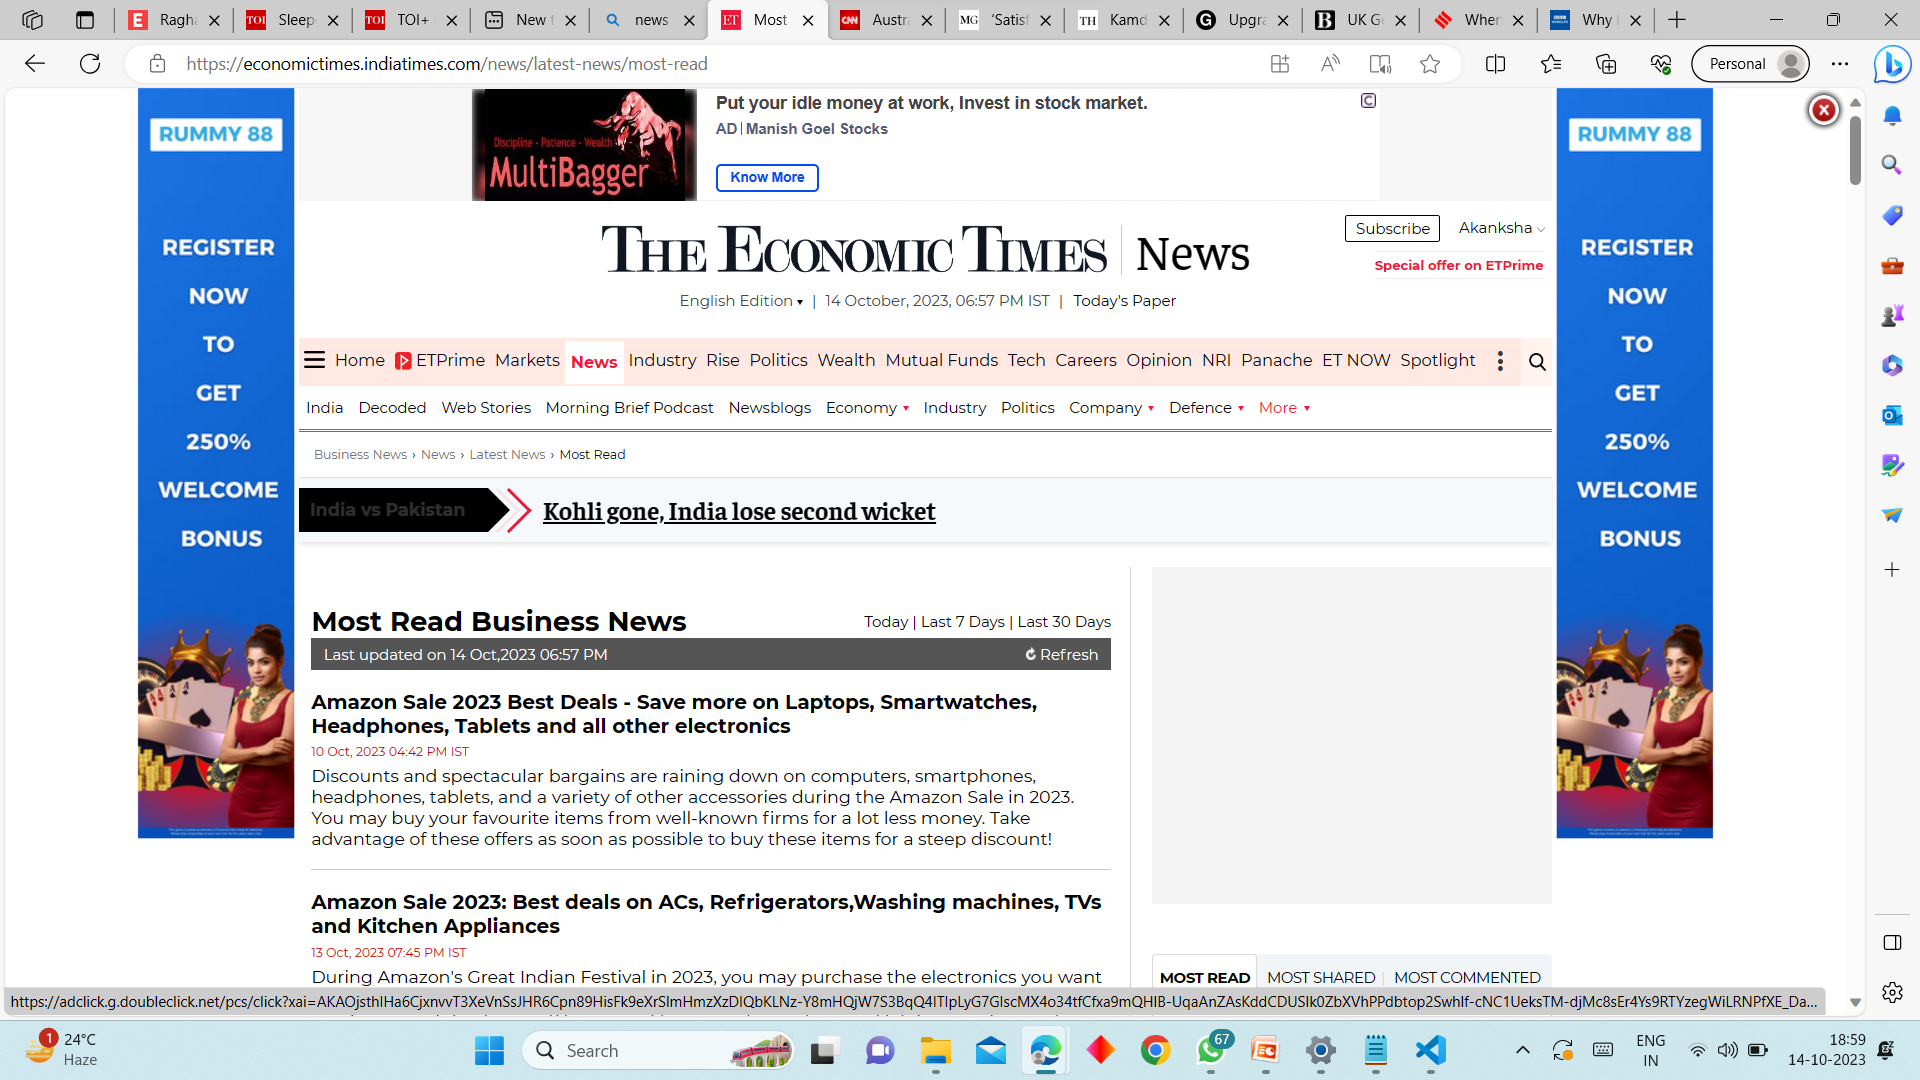Image: (463, 78, 1407, 196), (141, 87, 289, 841), (1553, 83, 1695, 833)
Paragraph: (302, 756, 1100, 861), (306, 881, 1125, 951), (311, 682, 1048, 756), (588, 210, 1276, 280), (659, 286, 1196, 319), (517, 495, 981, 524), (1369, 239, 1543, 298), (311, 968, 1098, 980), (1331, 206, 1447, 241), (1449, 215, 1553, 237)
